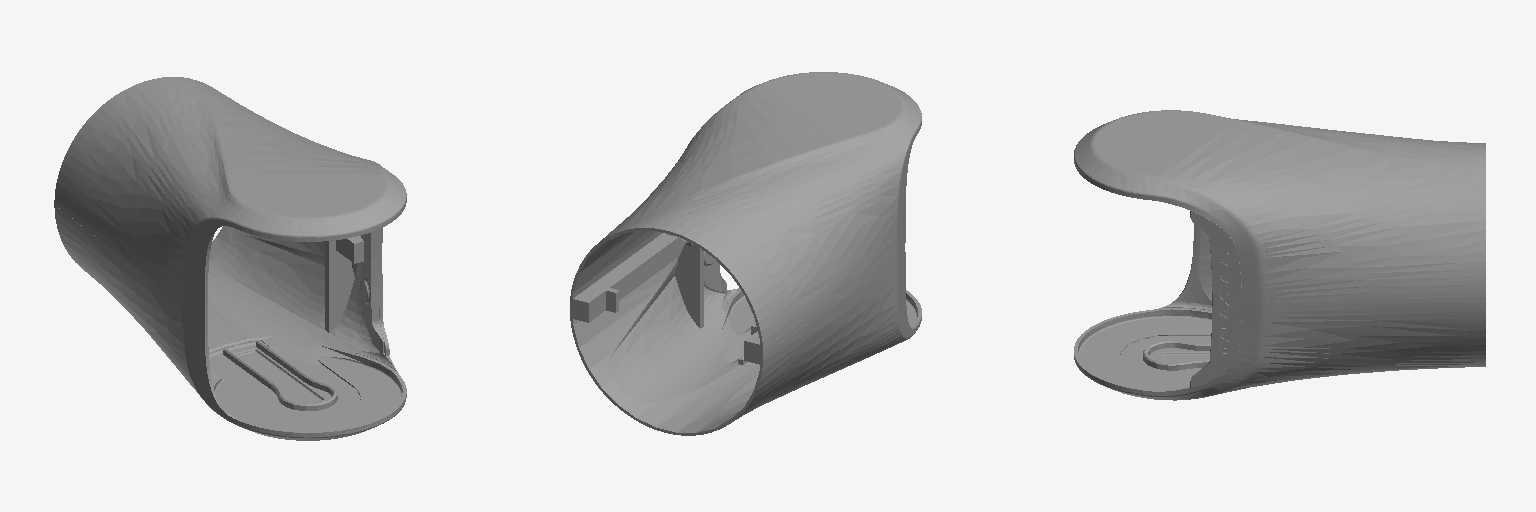
The picture shows the model from 3 angles: view 1: azimuth 30°, elevation 25°; view 2: azimuth 150°, elevation 25°; view 3: azimuth 270°, elevation 25°; orthographic projection.
Visible parts, largest first — view 1: left_arm_link4; view 2: left_arm_link4; view 3: left_arm_link4.
Part boxes in pixels (x1,y1,x2,y2): left_arm_link4: (54,77,406,440); left_arm_link4: (570,72,921,435); left_arm_link4: (1074,110,1485,400).
Bounding box in the file's own units: 0.0854 × 0.0897 × 0.1505.